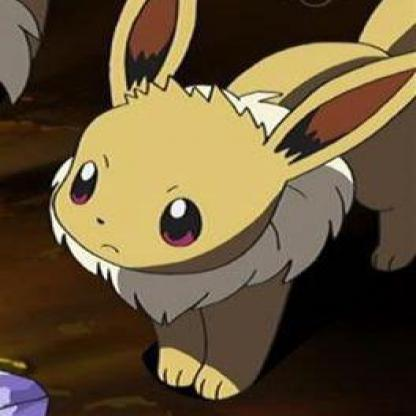Eevee: (23, 27, 415, 400)
